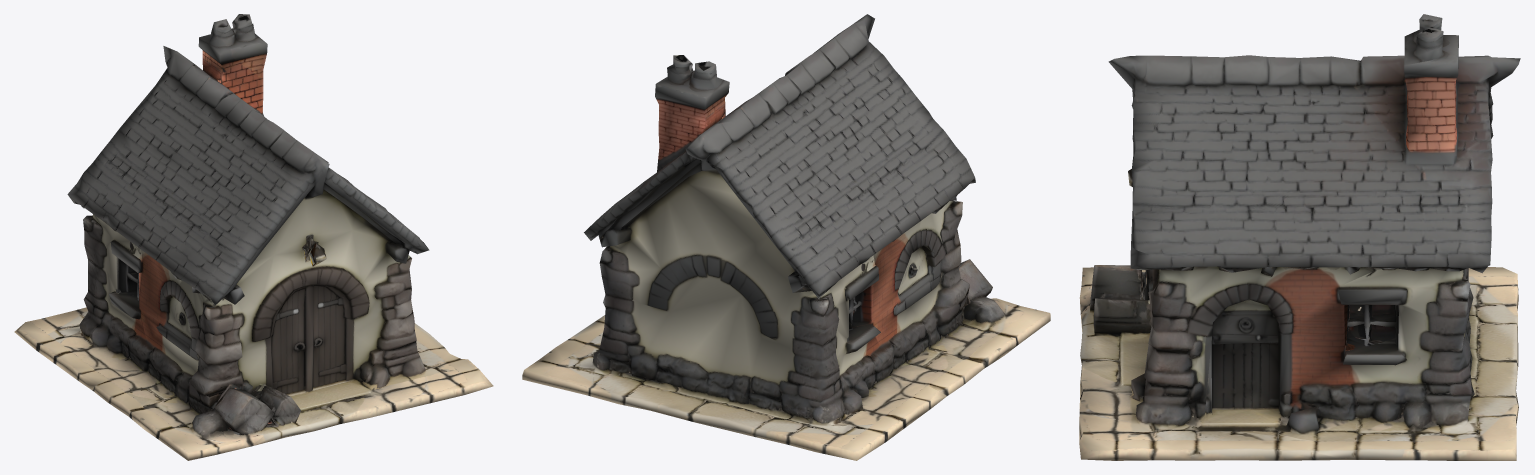
File: blacksmith.glb
3 views of the same model, side by side, from view 1: azimuth 30°, elevation 25°; view 2: azimuth 150°, elevation 25°; view 3: azimuth 270°, elevation 25° (orthographic). The views are drawn at different scales.
Parts seen in each view (by area): view 1: Mesh1.0; view 2: Mesh1.0; view 3: Mesh1.0.
Part boxes in pixels (x1=…): Mesh1.0: x1=14, y1=14, x2=493, y2=460; Mesh1.0: x1=522, y1=14, x2=1050, y2=460; Mesh1.0: x1=1079, y1=14, x2=1520, y2=460.
Bounding box in the file's own units: 1.91 × 1.75 × 1.92.
Materials: 1 (1 with a texture image).
